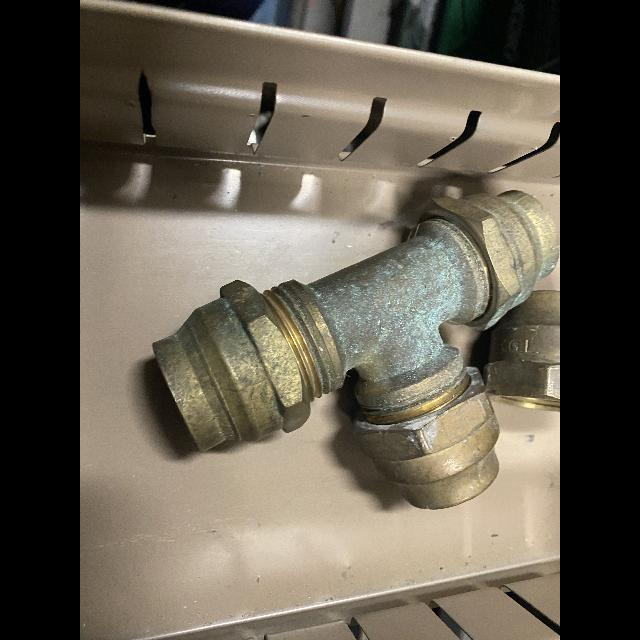Brass: (154, 191, 558, 508), (483, 291, 560, 408)
